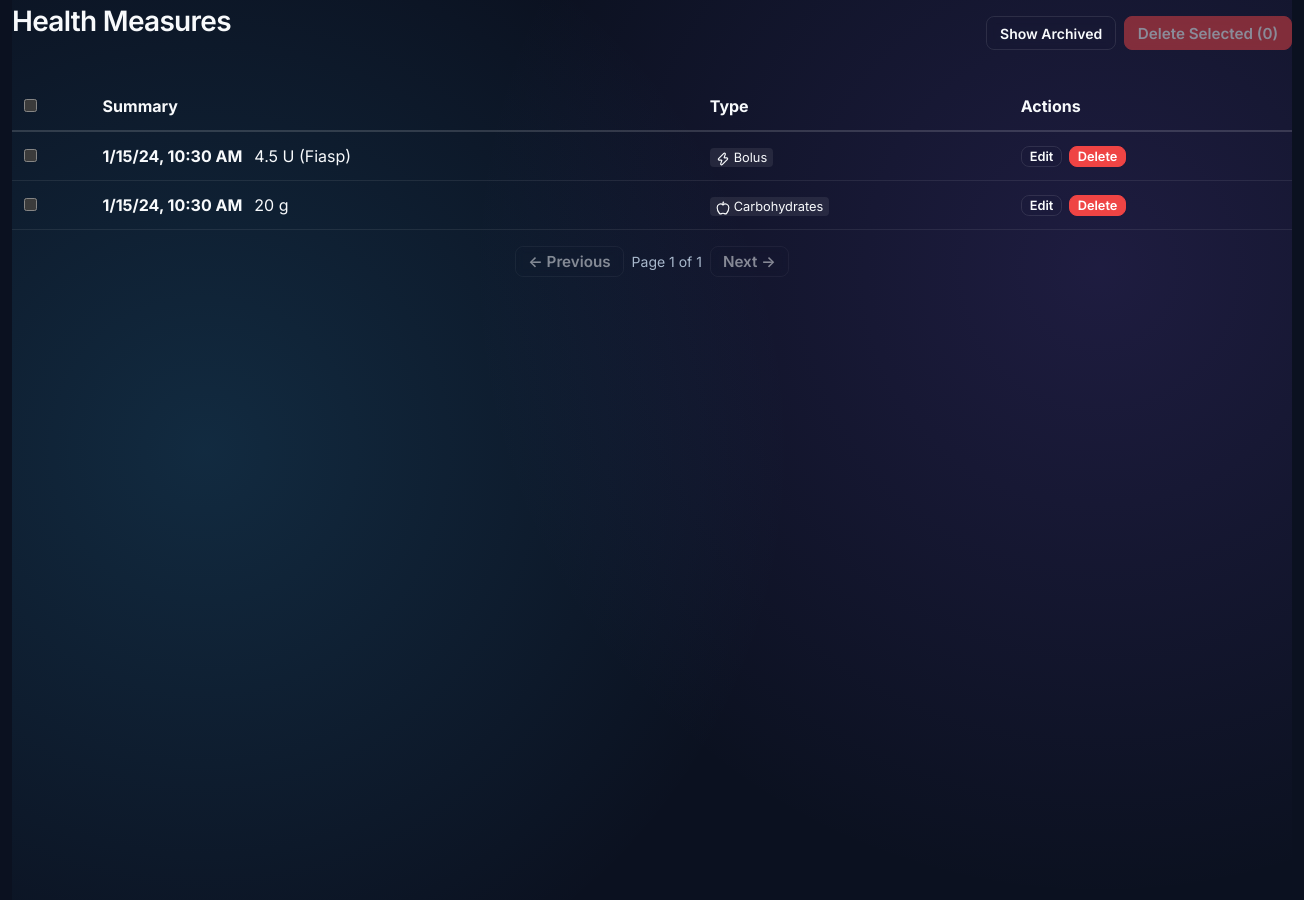
Test: TreatmentList › selects all rows when select-all checkbox is clicked
The image size is (1304, 900).
Click the checkbox named "Select all". click: (30, 106)
box: 24,99 -> 37,112
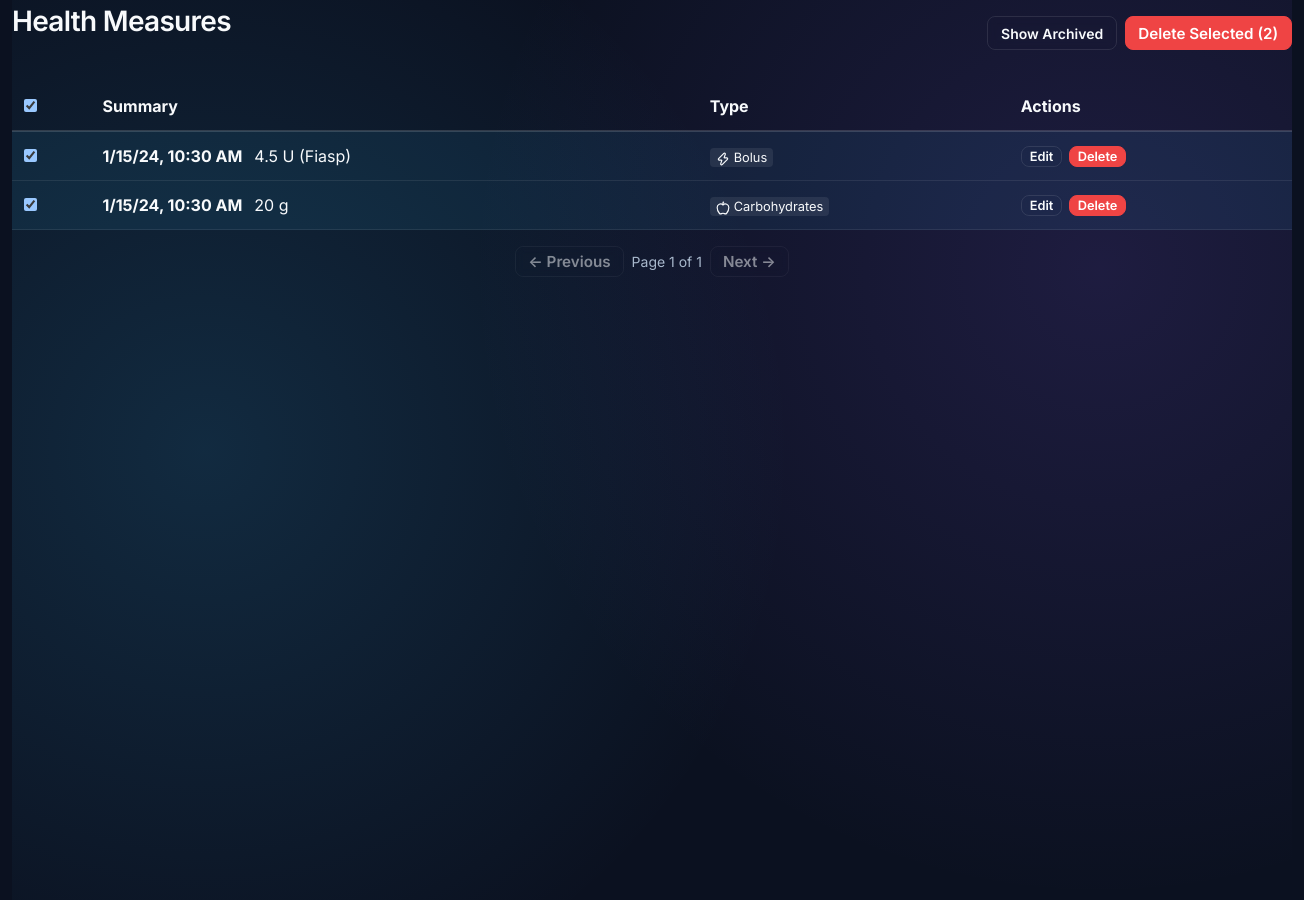
expect the button "Delete Selected (2)" is enabled: met, box 1124,16 -> 1292,50
